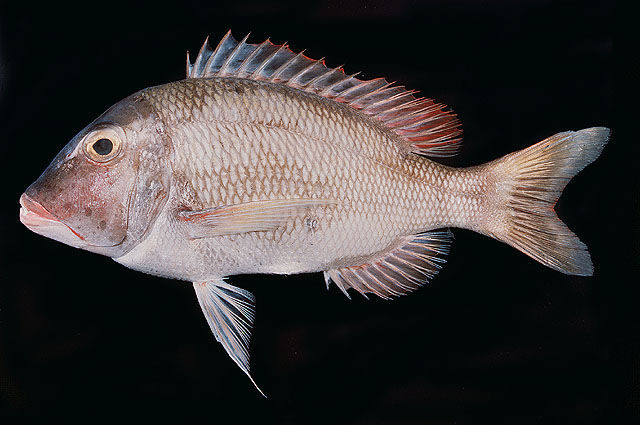fish: (19, 29, 611, 399)
